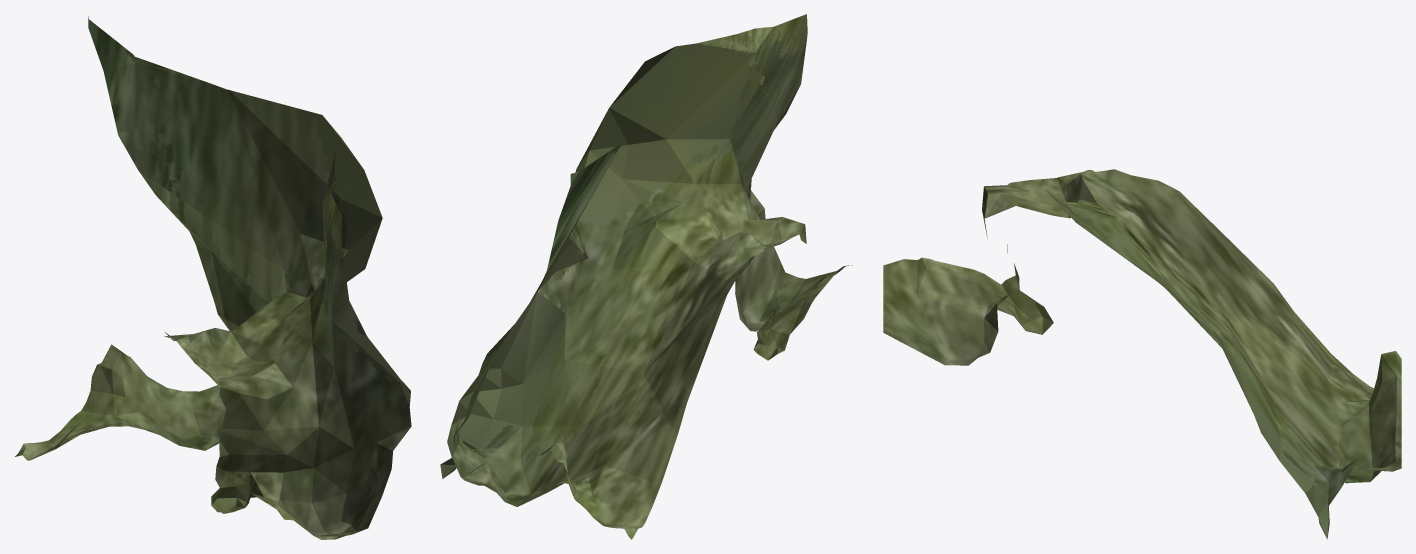
The picture shows the model from 3 angles, left to right: view 1: azimuth 30°, elevation 25°; view 2: azimuth 150°, elevation 25°; view 3: azimuth 270°, elevation 25°; orthographic projection. The views are drawn at different scales.
Size of the model in its own units: 1.7 by 2.69 by 2.95.
Materials: 3 (3 with a texture image).
